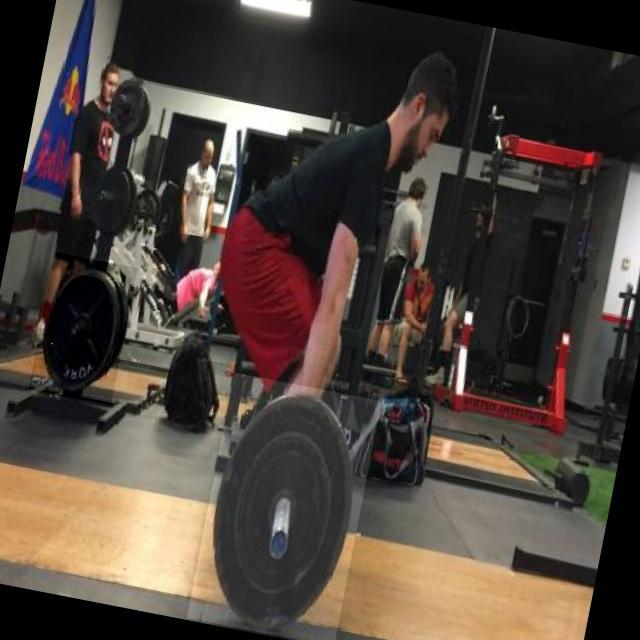barbell: (187, 373, 382, 640), (30, 254, 139, 407)
